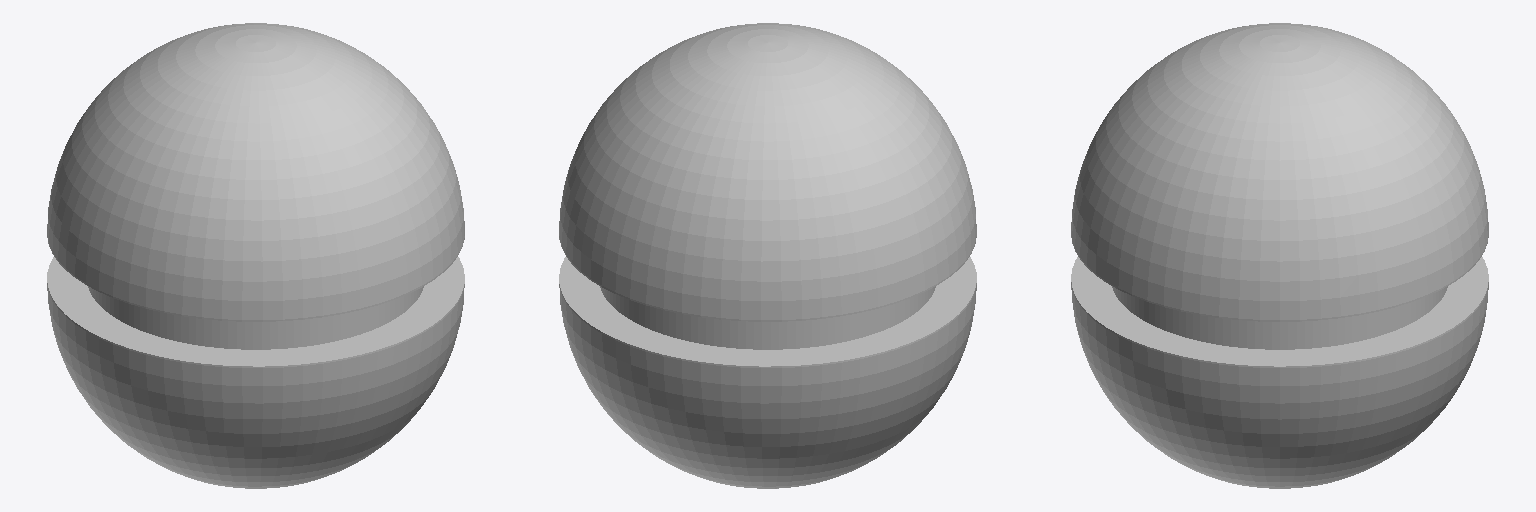
File: droid_anim_000011.obj
3 renders of one model, left to right at view 1: azimuth 30°, elevation 25°; view 2: azimuth 150°, elevation 25°; view 3: azimuth 270°, elevation 25°, orthographic.
Visible parts, largest first — view 1: Sphere.004, Sphere.005, Cylinder.002; view 2: Sphere.004, Sphere.005, Cylinder.002; view 3: Sphere.004, Sphere.005, Cylinder.002.
Boxes of the visible parts, x1=… form: Sphere.004: x1=47, y1=23, x2=464, y2=321; Sphere.005: x1=47, y1=257, x2=464, y2=488; Cylinder.002: x1=88, y1=286, x2=423, y2=349; Sphere.004: x1=559, y1=23, x2=976, y2=321; Sphere.005: x1=559, y1=257, x2=976, y2=488; Cylinder.002: x1=600, y1=286, x2=935, y2=349; Sphere.004: x1=1071, y1=23, x2=1488, y2=321; Sphere.005: x1=1071, y1=257, x2=1488, y2=488; Cylinder.002: x1=1112, y1=286, x2=1447, y2=349.
Bounding box in the file's own units: 2 × 2.25 × 2.